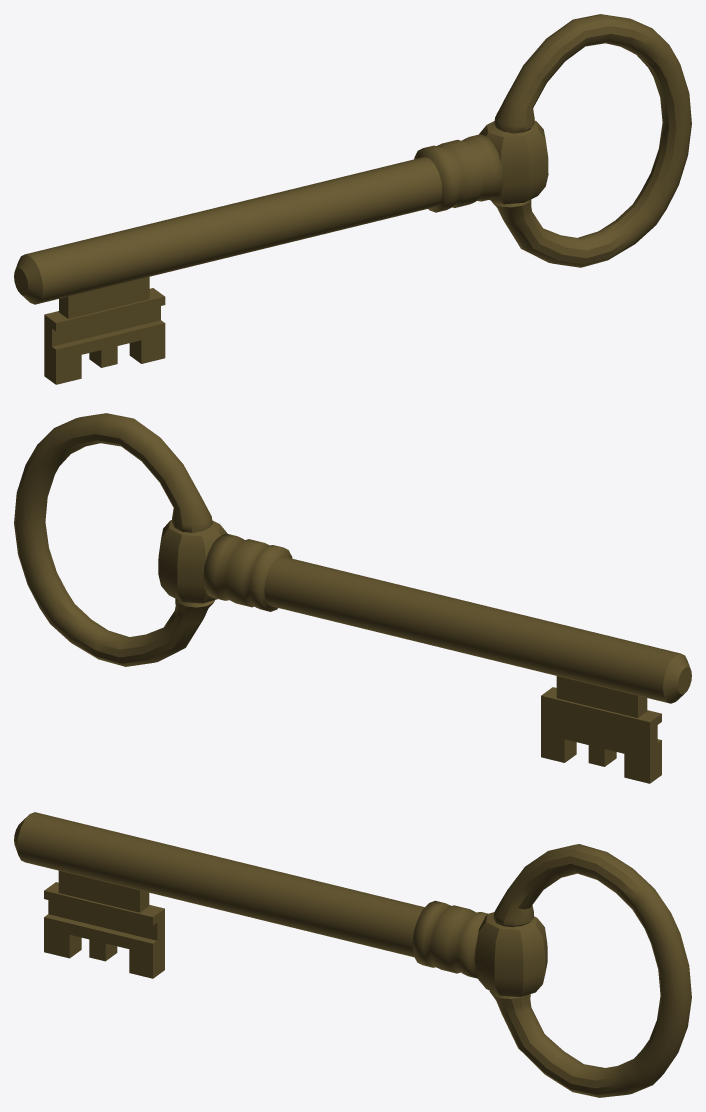
The model's file is llave.fbx.
3 renders of one model, top to bottom at view 1: azimuth 30°, elevation 25°; view 2: azimuth 150°, elevation 25°; view 3: azimuth 330°, elevation 25°, orthographic.
Parts seen in each view (by area): view 1: cuerpo, partediente, detalle; view 2: cuerpo, partediente, detalle; view 3: cuerpo, partediente, detalle.
Boxes of the visible parts, x1=… form: cuerpo: x1=14, y1=14, x2=691, y2=304; partediente: x1=44, y1=277, x2=165, y2=384; detalle: x1=414, y1=134, x2=503, y2=212; cuerpo: x1=14, y1=413, x2=691, y2=703; partediente: x1=541, y1=676, x2=661, y2=783; detalle: x1=203, y1=533, x2=292, y2=611; cuerpo: x1=14, y1=812, x2=691, y2=1097; partediente: x1=44, y1=870, x2=164, y2=978; detalle: x1=412, y1=900, x2=487, y2=978.
Size of the model in its own units: 9.88 by 3.48 by 0.8773.
